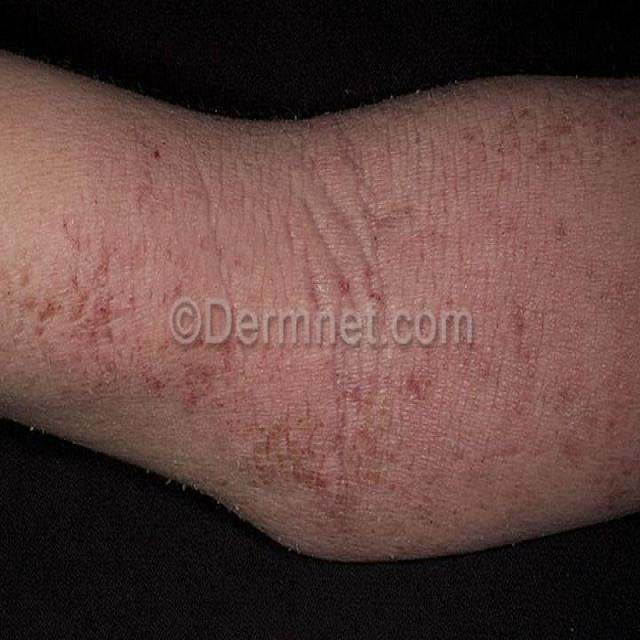liquenificacion 1: (141, 68, 631, 504)
liquenificacion 2: (141, 68, 631, 504)
